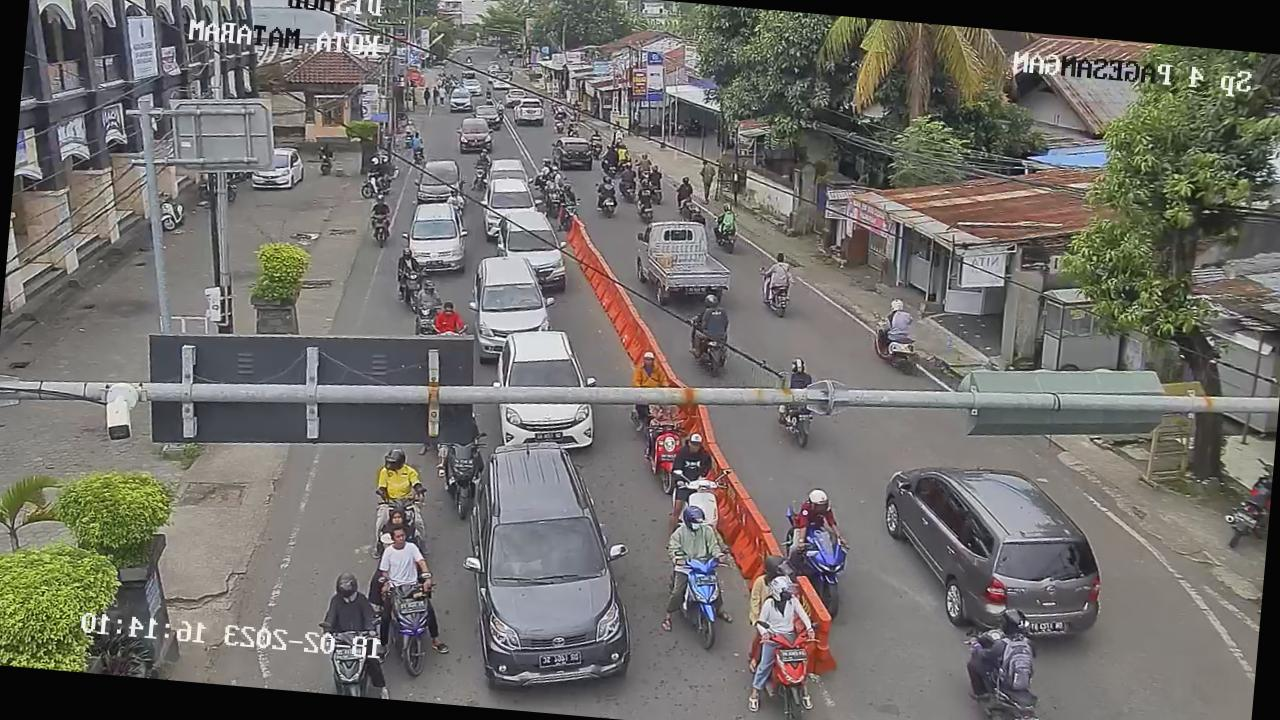car: (456, 428, 660, 700), (870, 461, 1113, 646), (486, 320, 602, 458), (465, 246, 563, 366), (492, 204, 574, 294), (403, 196, 475, 280), (473, 173, 542, 249), (412, 150, 470, 210), (548, 132, 596, 176), (455, 114, 499, 155), (508, 94, 550, 130), (446, 84, 478, 116), (471, 102, 501, 132)
motorbike: (742, 610, 831, 720), (376, 566, 447, 681), (665, 538, 735, 653), (310, 612, 382, 698), (792, 524, 855, 616), (430, 432, 490, 518), (676, 465, 736, 537), (637, 420, 690, 493), (398, 266, 427, 308), (410, 300, 439, 339), (154, 194, 182, 232), (368, 210, 394, 250), (556, 196, 583, 229), (359, 168, 382, 201), (469, 160, 494, 190)
person: (370, 518, 440, 605), (318, 568, 384, 648), (984, 606, 1042, 692), (756, 567, 818, 644), (369, 447, 434, 516), (788, 483, 851, 552), (668, 500, 731, 566), (669, 424, 725, 487), (693, 286, 736, 342), (631, 349, 673, 394), (878, 294, 918, 337), (780, 351, 819, 392), (432, 297, 469, 339), (760, 248, 794, 290), (414, 275, 444, 313), (396, 245, 424, 282), (369, 191, 393, 223), (553, 180, 581, 207), (716, 202, 741, 232), (544, 162, 567, 192), (595, 174, 619, 200), (636, 176, 656, 206), (676, 172, 696, 201), (618, 160, 640, 186), (646, 162, 666, 190), (474, 146, 494, 172), (698, 158, 718, 182), (636, 152, 654, 176), (602, 144, 620, 167), (367, 154, 382, 174)
truck: (630, 206, 740, 310)
